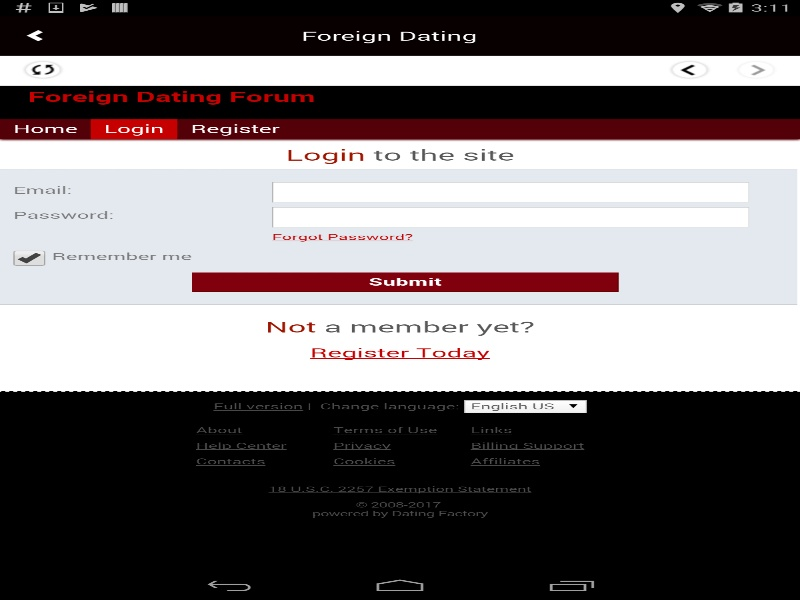Button: (192, 272, 618, 291), (13, 55, 73, 83), (660, 55, 720, 83), (726, 55, 786, 83), (463, 403, 588, 416)
Input: (272, 181, 750, 202), (272, 206, 750, 227)
